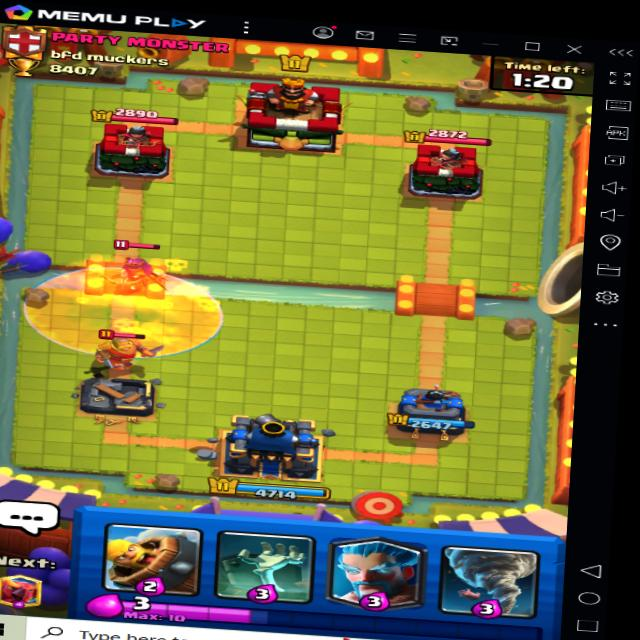archer-queen: (103, 233, 175, 291)
knight: (84, 323, 167, 373)
